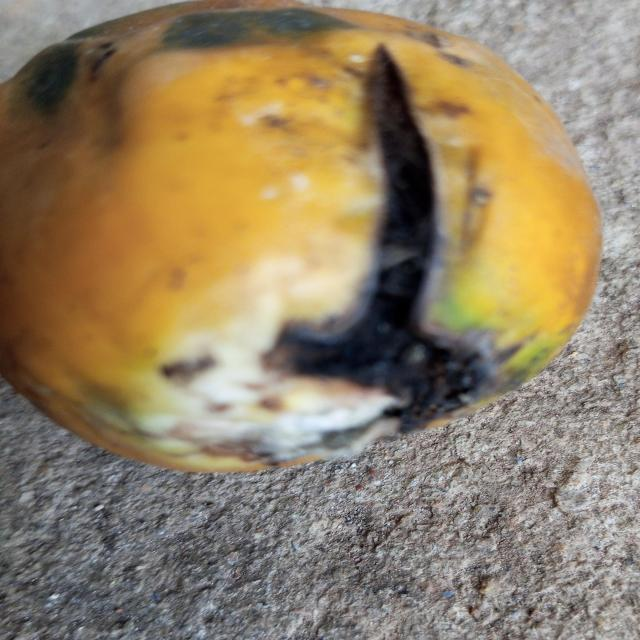damaged: (0, 4, 604, 477)
